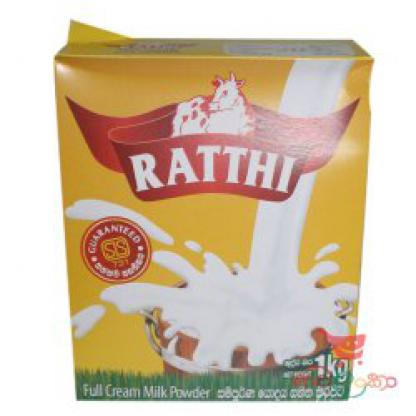CARDBOARD: (51, 17, 372, 398)
